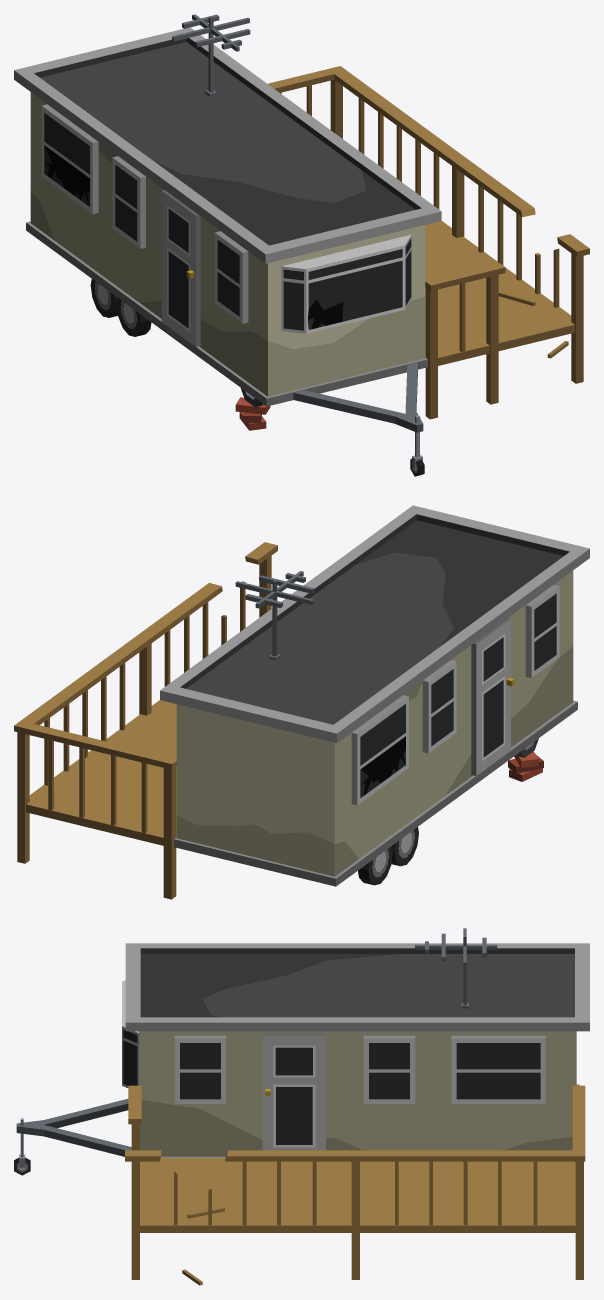
The model's file is SA_Bld_Trailer_Damaged_01.gltf.
3 renders of one model, top to bottom at view 1: azimuth 30°, elevation 25°; view 2: azimuth 150°, elevation 25°; view 3: azimuth 270°, elevation 25°, orthographic. The views are drawn at different scales.
Visible parts, largest first — view 1: SA_Bld_Trailer_Damaged_01; view 2: SA_Bld_Trailer_Damaged_01; view 3: SA_Bld_Trailer_Damaged_01.
Part boxes in pixels (x1=…): SA_Bld_Trailer_Damaged_01: x1=14, y1=14, x2=589, y2=476; SA_Bld_Trailer_Damaged_01: x1=14, y1=505, x2=589, y2=899; SA_Bld_Trailer_Damaged_01: x1=14, y1=928, x2=589, y2=1285.
Size of the model in its own units: 9.39 by 7.29 by 14.77.
Materials: 1 (1 with a texture image).
